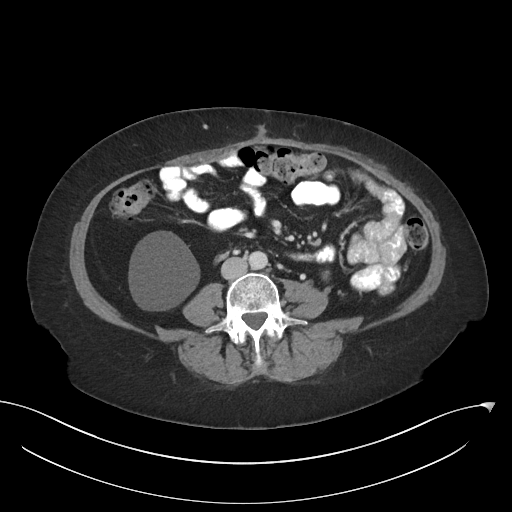Lesion: (124, 226, 203, 315)
